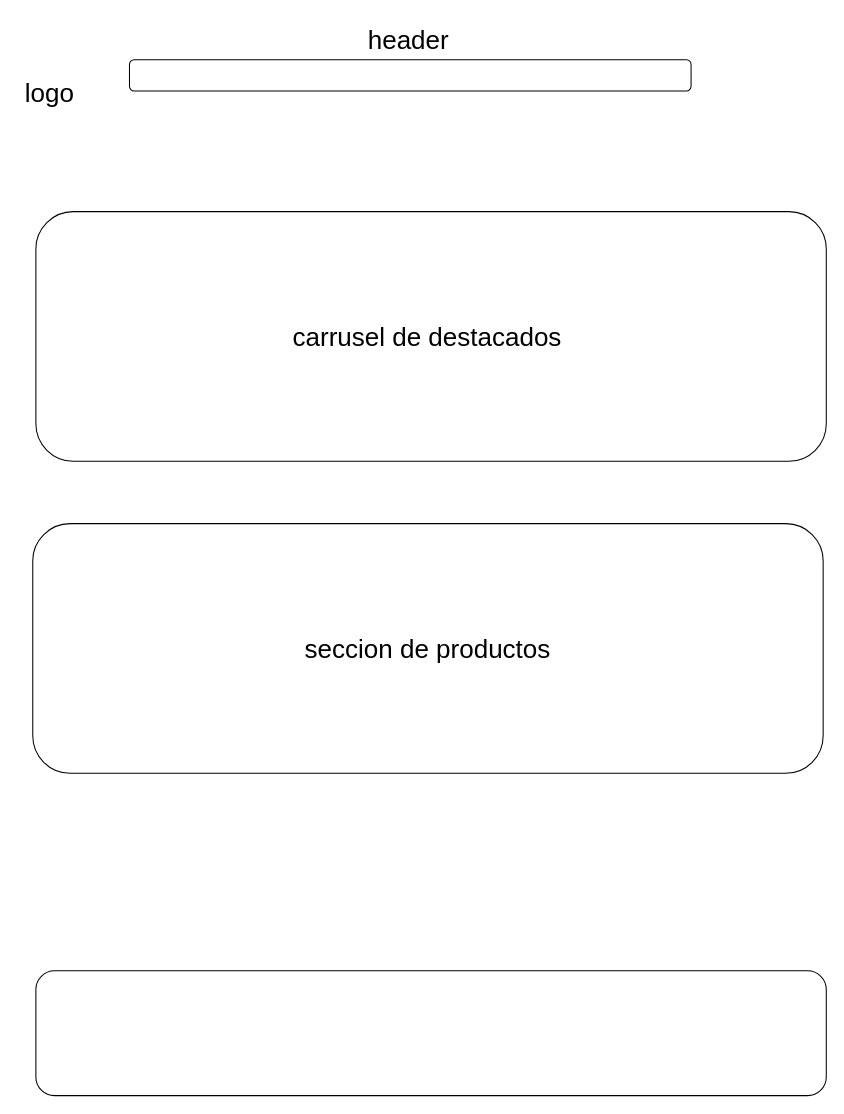
Image size: 844x1114. Some labels were removed from this diagram. The centre of each missing label's shape, as x and y in pixels:
barra de navegacion: the point at 409,75
informacion general: the point at 430,1033
